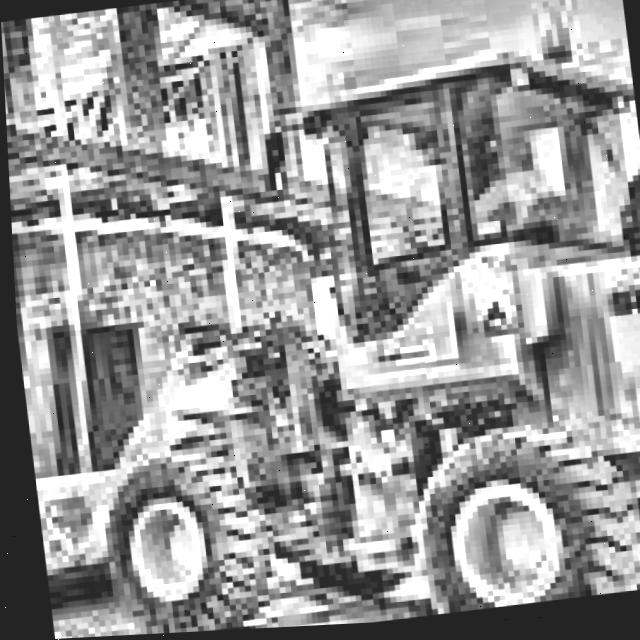buldozerpayloadergrader: (2, 26, 640, 640)
